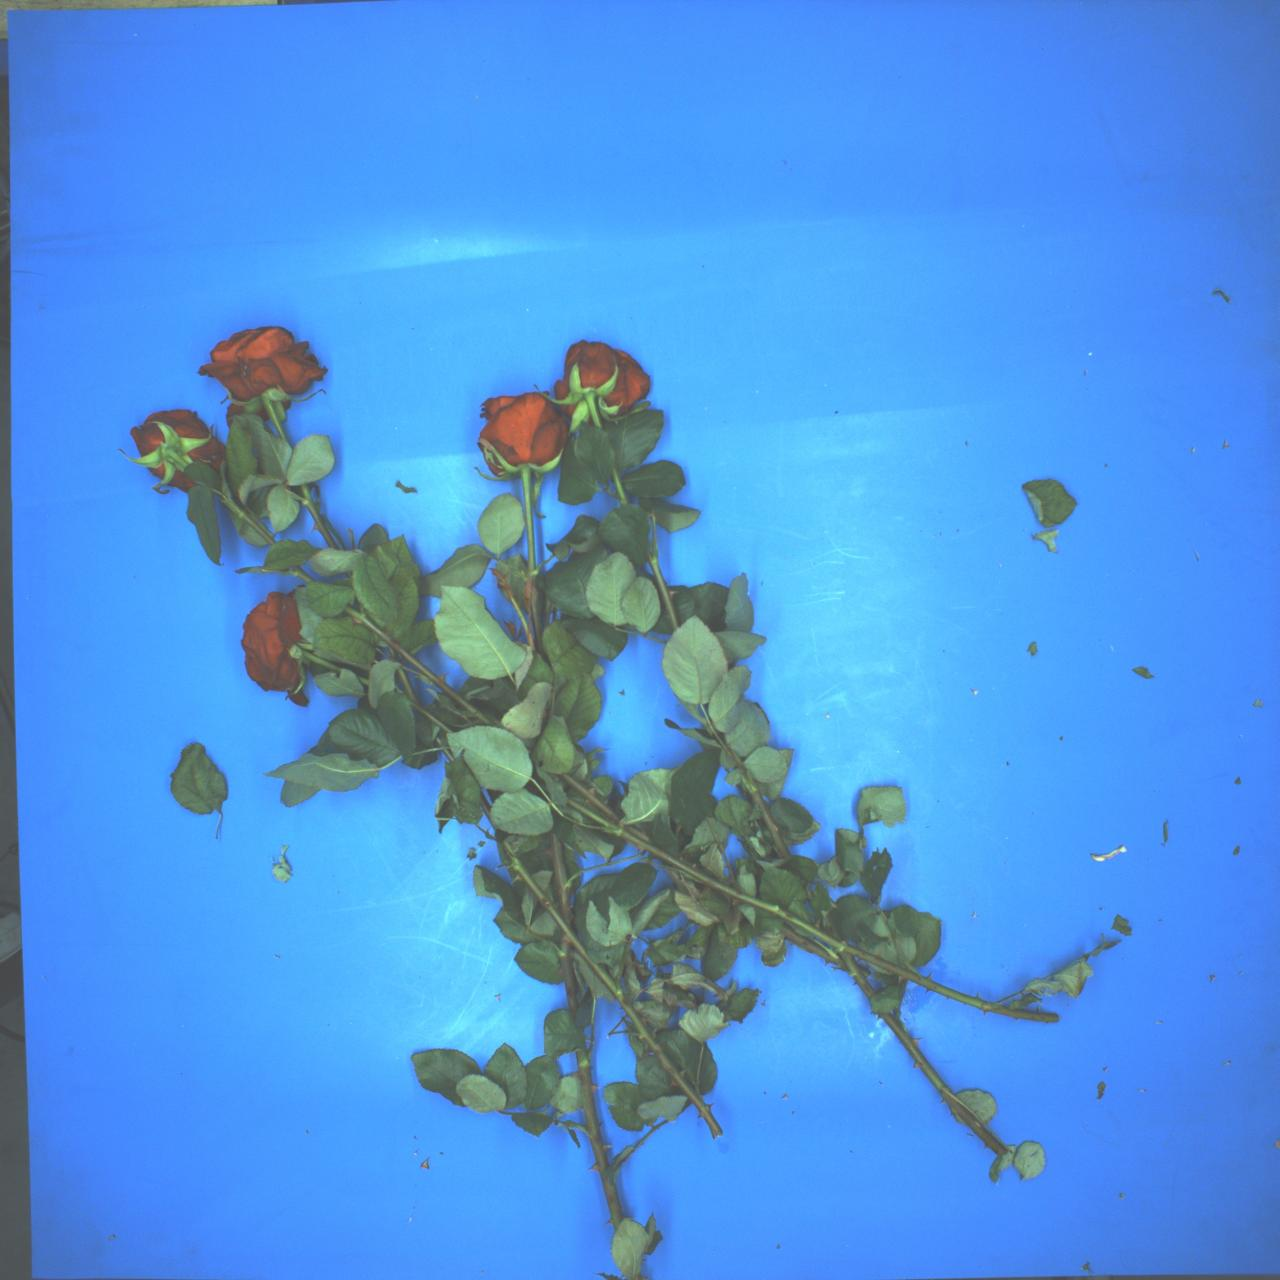Stem: (557, 797, 1062, 1043), (504, 845, 727, 1139), (872, 1003, 1010, 1164), (343, 602, 501, 735), (568, 1048, 627, 1233), (554, 769, 625, 825), (744, 779, 791, 860), (777, 924, 852, 972), (644, 551, 683, 632), (222, 495, 277, 549), (545, 830, 574, 930), (298, 484, 339, 553), (525, 573, 552, 668), (837, 947, 878, 1001), (558, 931, 581, 1020), (407, 699, 456, 737), (522, 469, 537, 573), (261, 397, 291, 444), (300, 649, 342, 676), (394, 666, 420, 707), (608, 469, 628, 506), (822, 915, 845, 945), (585, 396, 604, 431), (626, 823, 652, 846), (290, 563, 315, 586), (475, 791, 496, 819), (383, 646, 406, 666), (354, 675, 372, 688), (442, 747, 456, 762), (434, 736, 444, 749)
flower: (117, 389, 234, 508), (196, 322, 328, 404), (470, 384, 577, 477), (552, 334, 656, 418), (238, 590, 308, 709)
